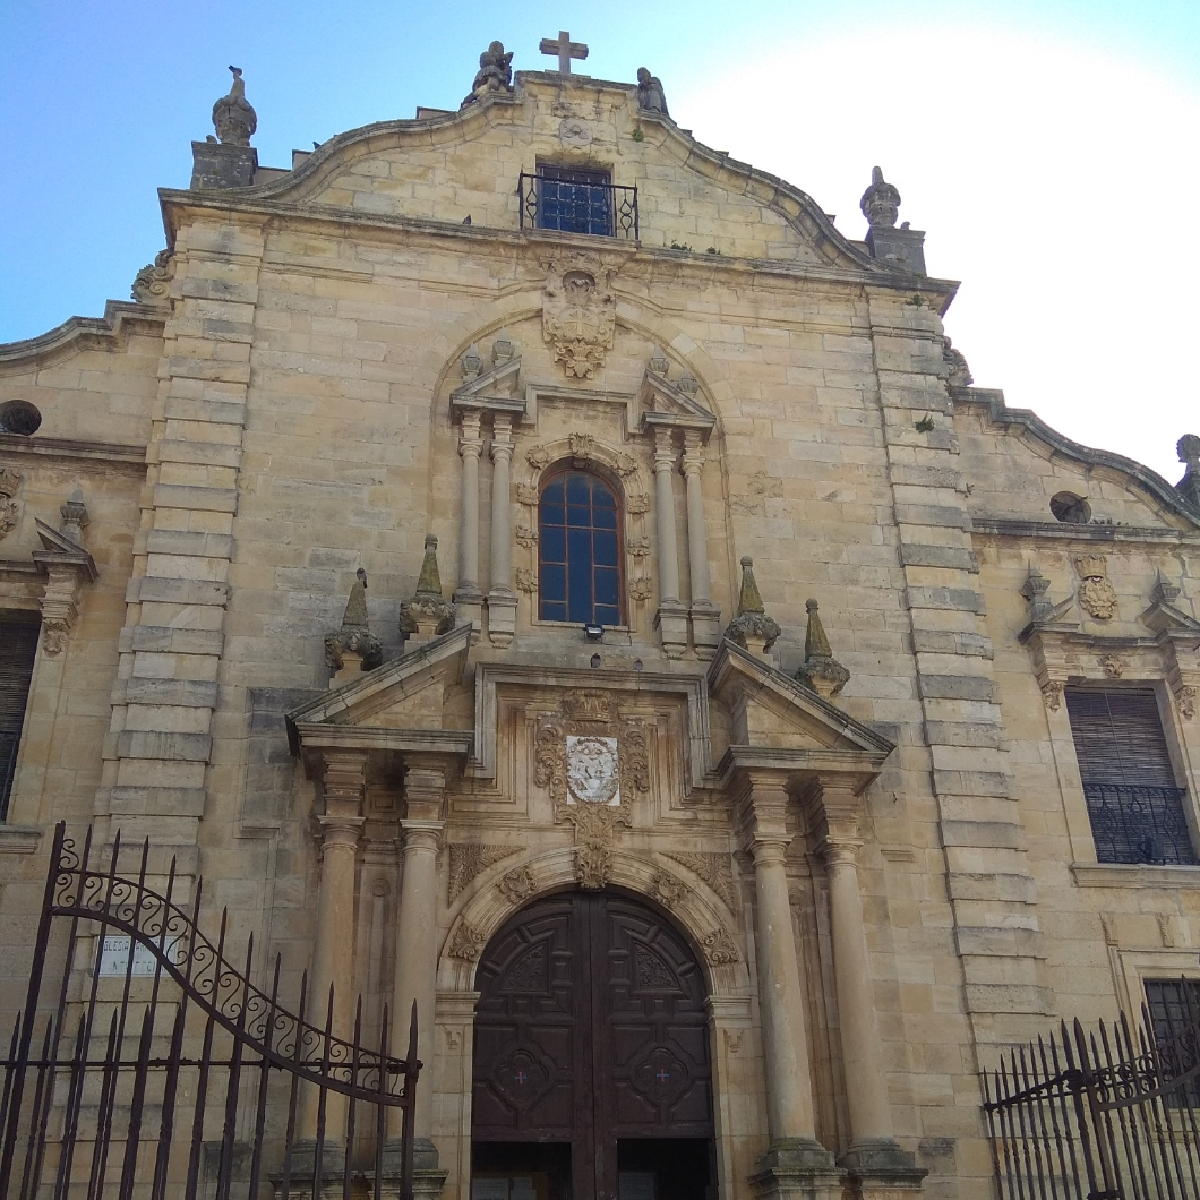arco-medio-punto: (467, 873, 725, 1038), (520, 442, 631, 508)
fronton-partido: (276, 627, 899, 777), (445, 351, 721, 434)
vano-adintelado: (1051, 658, 1200, 873)
